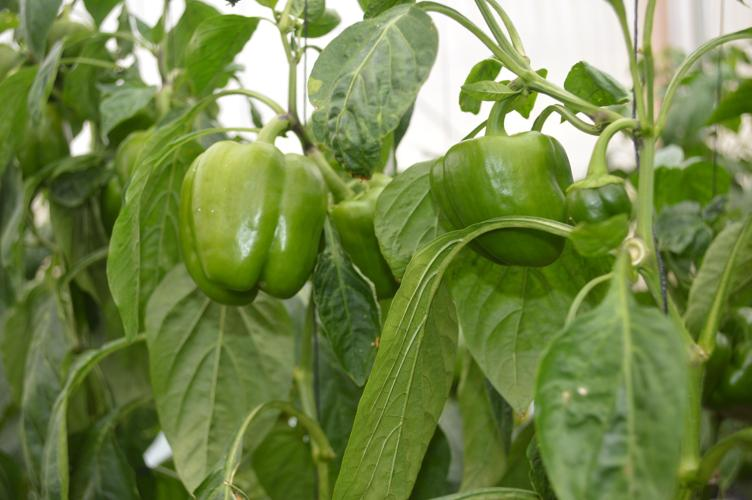BellPepper: (181, 137, 326, 309), (432, 130, 568, 270), (330, 174, 391, 295), (567, 182, 624, 232)
